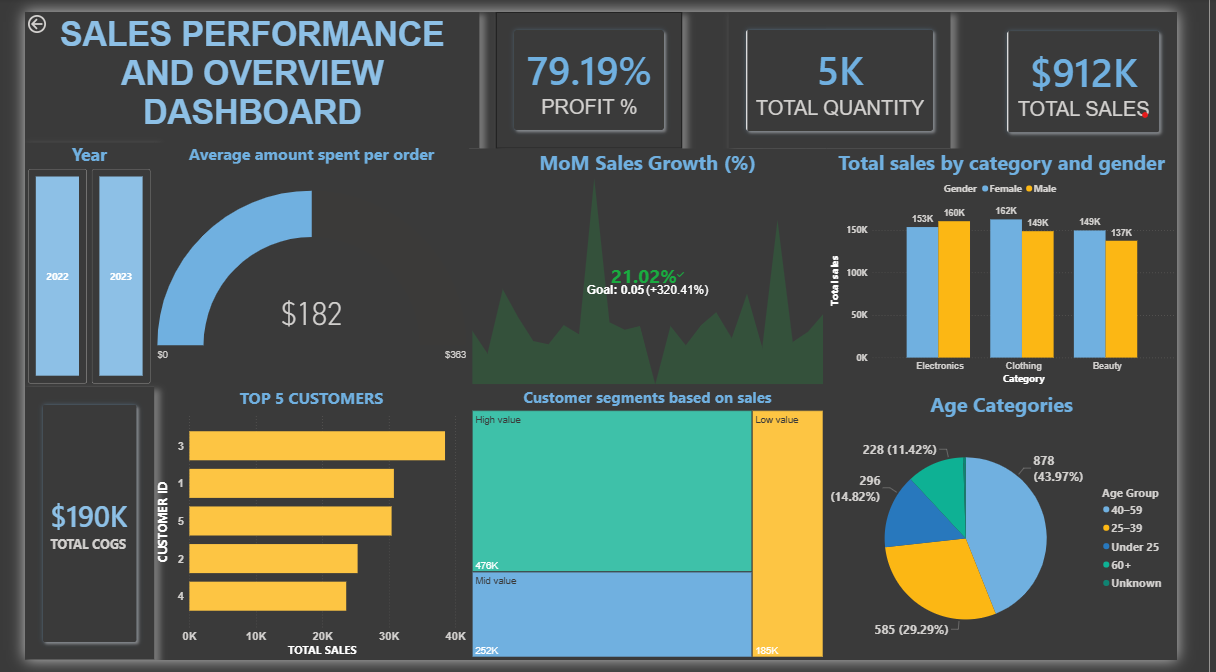

Layout of this report page (visuals, bound fields, positions):
{"tool":"powerbi","page":{"name":"Page 1","canvas":[1920,1080],"ordinal":0},"visuals":[{"type":"textbox","box":[0,0,757.5,227.5],"z":0},{"type":"cardVisual","fields":{"Data":["_measures.PROFIT %"]},"box":[805,0,310,227.5],"z":1},{"type":"cardVisual","fields":{"Data":["_measures.TOTAL QUANTITY"]},"box":[1172.5,0,370,227.5],"z":3},{"type":"cardVisual","fields":{"Data":["_measures.TOTAL SALES"]},"box":[1607.5,2.5,312.5,227.5],"z":4},{"type":"clusteredColumnChart","title":"Total sales by category and gender","fields":{"Category":["Retail_Sales.CATEGORY"],"Y":["Sum(Retail_Sales.TOTAL SALES)"],"Series":["Retail_Sales.GENDER"]},"box":[1335,227.5,585,397.5],"z":5},{"type":"pieChart","title":"Age Categories ","fields":{"Category":["Retail_Sales.Age Group"],"Y":["CountNonNull(Retail_Sales.Age Group)"]},"box":[1335,625,585,455],"z":7},{"type":"treemap","title":"Customer segments based on sales","fields":{"Group":["Retail_Sales.CUSTOMER SEGMENTS"],"Values":["Sum(Retail_Sales.TOTAL SALES)"]},"box":[740,625,595,455],"z":9},{"type":"kpi","title":"MoM Sales Growth (%)","fields":{"Indicator":["DateTable.MoM %"],"TrendLine":["DateTable.Month Start"],"Goal":["DateTable.Target MoM"]},"box":[740,227.5,595,397.5],"z":10},{"type":"advancedSlicerVisual","fields":{"Values":["DateTable.Year"]},"box":[0,217.5,215,407.5],"z":11},{"type":"gauge","title":"Average amount spent per order","fields":{"Y":["_measures.AOV"]},"box":[215,227.5,525,397.5],"z":12},{"type":"clusteredBarChart","title":"TOP 5 CUSTOMERS ","fields":{"Category":["Retail_Sales.CUSTOMER ID"],"Y":["Sum(Retail_Sales.TOTAL SALES)"]},"box":[215,625,525,455],"z":13},{"type":"actionButton","box":[0,0,100,40],"z":14},{"type":"cardVisual","fields":{"Data":["_measures.TOTAL COGS"]},"box":[0,626,215,454],"z":15}]}

Visuals, with their boxes in screenshot pixels (x1, y1, x2, y2), scaled from the page's 1920x1080 canvas onto the 1216x672 screenshot:
textbox: 0,0,480,142
cardVisual - _measures.PROFIT %: 510,0,706,142
cardVisual - _measures.TOTAL QUANTITY: 743,0,977,142
cardVisual - _measures.TOTAL SALES: 1018,2,1215,143
"Total sales by category and gender" clusteredColumnChart: 846,142,1215,389
"Age Categories " pieChart: 846,389,1215,671
"Customer segments based on sales" treemap: 469,389,846,671
"MoM Sales Growth (%)" kpi: 469,142,846,389
advancedSlicerVisual - DateTable.Year: 0,135,136,389
"Average amount spent per order" gauge: 136,142,469,389
"TOP 5 CUSTOMERS " clusteredBarChart: 136,389,469,671
actionButton: 0,0,63,25
cardVisual - _measures.TOTAL COGS: 0,390,136,671
